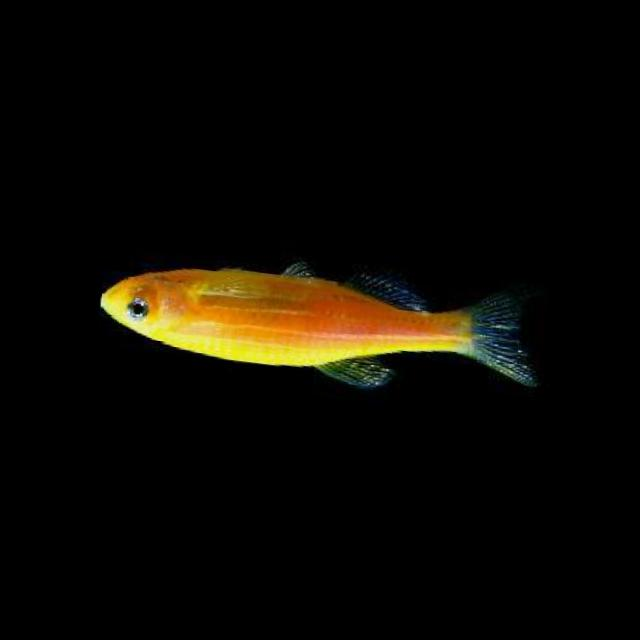ZebraFish: (92, 230, 548, 413)
